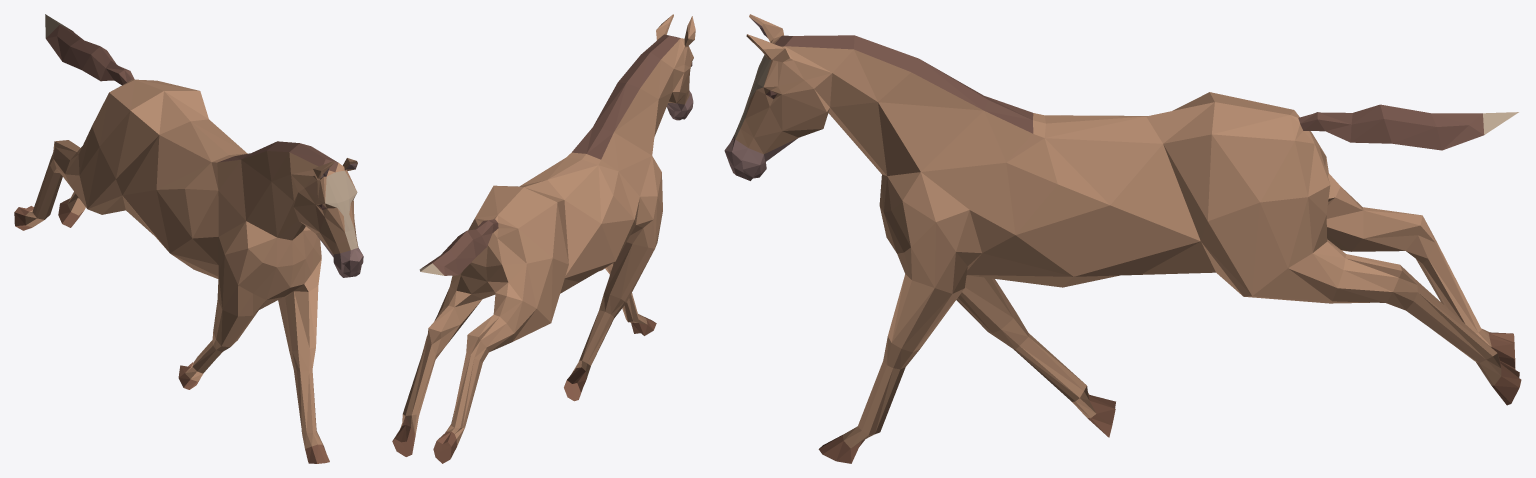
Rendered from Horse.glb.
The picture shows the model from 3 angles, left to right: view 1: azimuth 30°, elevation 25°; view 2: azimuth 150°, elevation 25°; view 3: azimuth 270°, elevation 25°; orthographic projection. The views are drawn at different scales.
Visible parts, largest first — view 1: mesh_0; view 2: mesh_0; view 3: mesh_0.
Part boxes in pixels (<box>): mesh_0: <box>14,14,363,463</box>; mesh_0: <box>392,14,695,463</box>; mesh_0: <box>724,14,1521,463</box>.
Bounding box in the file's own units: 63.58 × 181 × 301.
